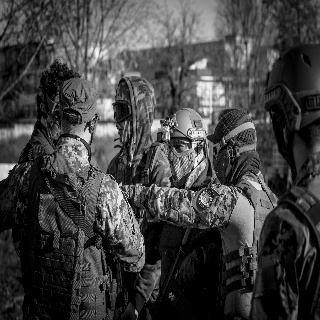rifle: (156, 216, 193, 303)
